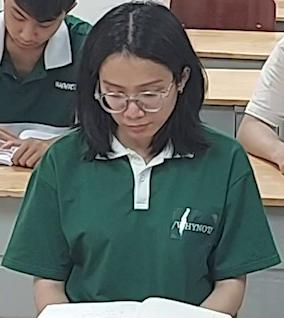Reading: (10, 5, 272, 318)
